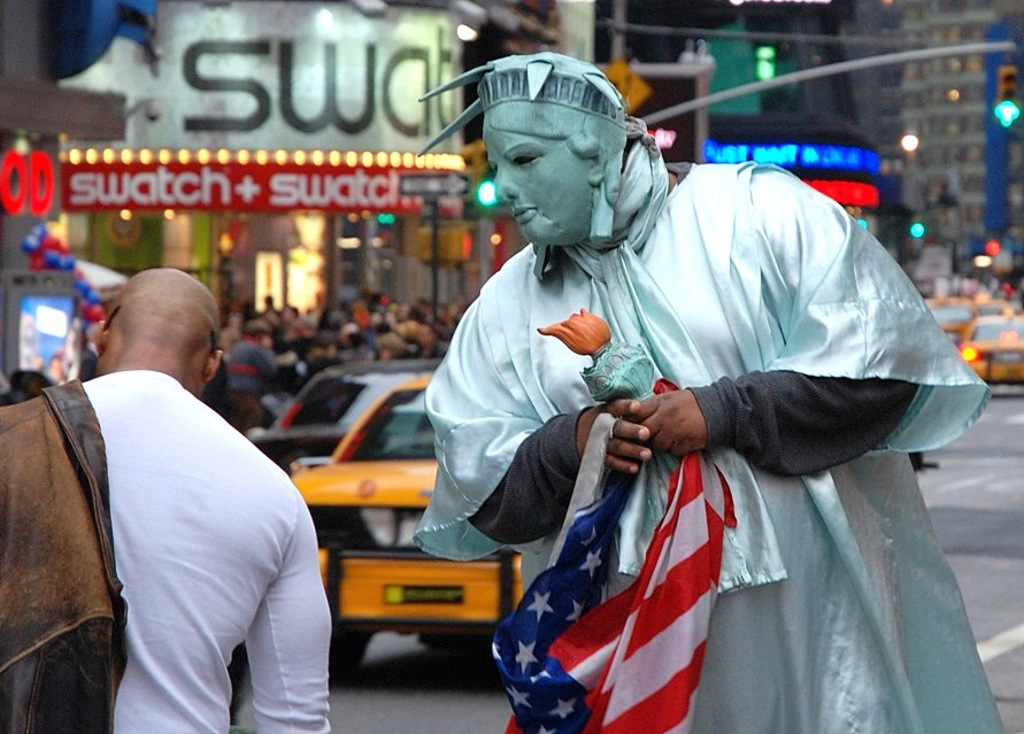Car: (291, 376, 525, 673), (247, 350, 459, 467), (925, 292, 1022, 385), (955, 318, 1022, 391), (926, 297, 974, 336), (969, 292, 1011, 318)
